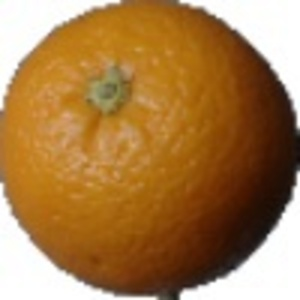laranja: (3, 5, 297, 296)
